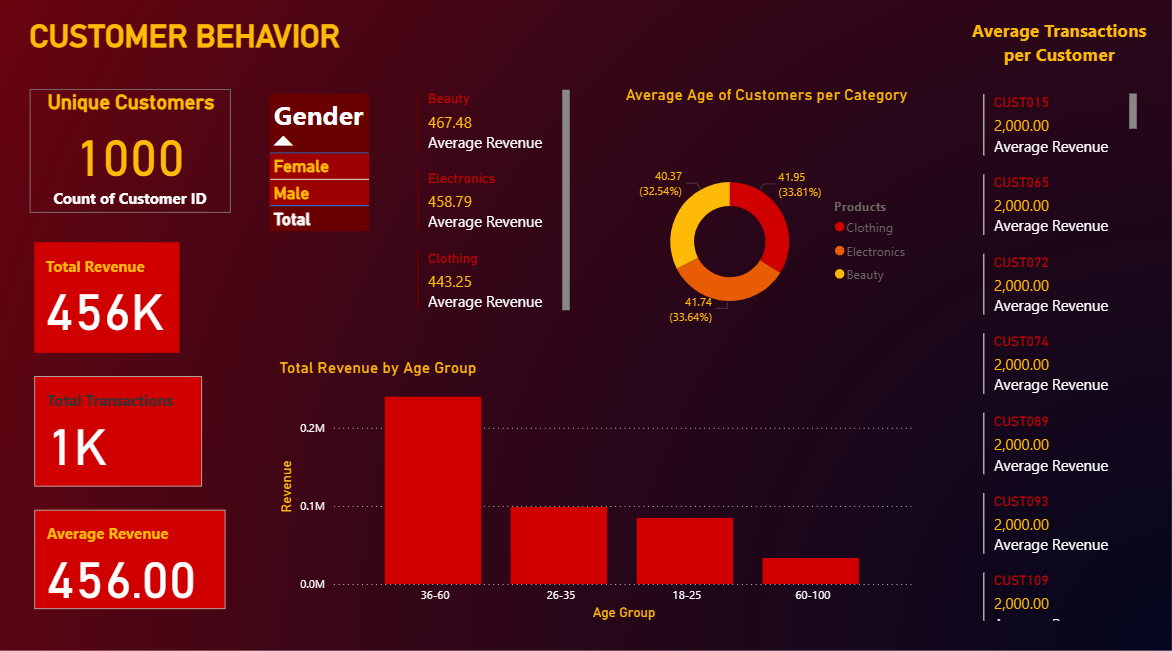

This screenshot's page, from the dashboard's own definition file:
{"tool":"powerbi","page":{"name":"Page 2","canvas":[1280,720],"ordinal":1},"visuals":[{"type":"textbox","box":[6.7,25.3,410.7,49.3],"z":0},{"type":"tableEx","fields":{"Values":["retail_sales_dataset.Gender"]},"box":[296,106.7,178.7,208],"z":1000},{"type":"cardVisual","fields":{"Data":["retail_sales_dataset.Total Revenue"]},"box":[46.7,265.3,165.3,128],"z":2000},{"type":"cardVisual","fields":{"Data":["retail_sales_dataset.Average Revenue"]},"box":[46.7,550.7,214.7,116],"z":3000},{"type":"cardVisual","fields":{"Data":["retail_sales_dataset.Total Transactions"]},"box":[46.7,408,189.3,128],"z":4000},{"type":"clusteredColumnChart","title":"Total Revenue by Age Group","fields":{"Y":["Sum(retail_sales_dataset.Revenue)"],"Category":["retail_sales_dataset.Age Group"]},"box":[308,393.3,686.7,285.3],"z":5000},{"type":"donutChart","title":"Average Age of Customers per Category","fields":{"Category":["retail_sales_dataset.Products"],"Y":["Avg(retail_sales_dataset.Age)"]},"box":[677.3,102.7,317.3,314.7],"z":6000},{"type":"card","title":"Unique Customers ","fields":{"Values":["Count(retail_sales_dataset.Customer ID)"]},"box":[46.7,106.7,214.7,132],"z":7000},{"type":"multiRowCard","fields":{"Values":["retail_sales_dataset.Average Revenue","retail_sales_dataset.Customer ID"]},"box":[1058.3,106.9,173.6,572.2],"z":8000},{"type":"textbox","box":[1041.7,26.4,206.9,63.9],"z":9000},{"type":"multiRowCard","fields":{"Values":["retail_sales_dataset.Average Revenue","retail_sales_dataset.Products"]},"box":[454.7,102.7,173.3,257.3],"z":10000}]}

Visuals, with their boxes in screenshot pixels (x1, y1, x2, y2), scaled from the page's 1280x720 canvas onto the 1172x651 screenshot:
textbox: [x1=6, y1=23, x2=382, y2=67]
tableEx - retail_sales_dataset.Gender: [x1=271, y1=96, x2=435, y2=285]
cardVisual - retail_sales_dataset.Total Revenue: [x1=43, y1=240, x2=194, y2=356]
cardVisual - retail_sales_dataset.Average Revenue: [x1=43, y1=498, x2=239, y2=603]
cardVisual - retail_sales_dataset.Total Transactions: [x1=43, y1=369, x2=216, y2=485]
"Total Revenue by Age Group" clusteredColumnChart: [x1=282, y1=356, x2=911, y2=614]
"Average Age of Customers per Category" donutChart: [x1=620, y1=93, x2=911, y2=377]
"Unique Customers " card: [x1=43, y1=96, x2=239, y2=216]
multiRowCard - retail_sales_dataset.Average Revenue x retail_sales_dataset.Customer ID: [x1=969, y1=97, x2=1128, y2=614]
textbox: [x1=954, y1=24, x2=1143, y2=82]
multiRowCard - retail_sales_dataset.Average Revenue x retail_sales_dataset.Products: [x1=416, y1=93, x2=575, y2=326]
